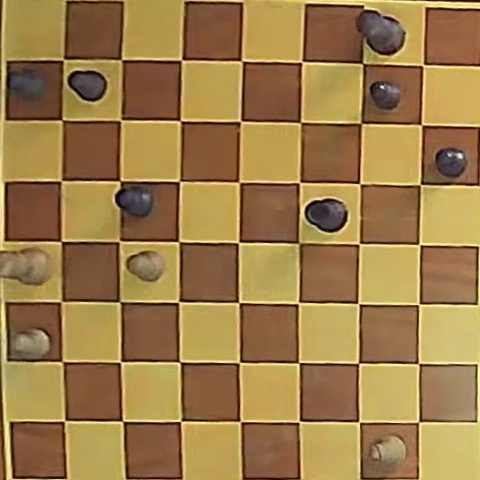black-king: (356, 10, 405, 55)
black-pawn: (68, 70, 106, 102), (116, 186, 153, 218), (8, 69, 45, 100), (435, 147, 467, 177), (370, 81, 402, 110)
black-rook: (305, 199, 347, 233)
white-bishop: (371, 436, 406, 466)
white-king: (0, 248, 52, 284)
white-pawn: (10, 328, 51, 359), (127, 251, 165, 282)
